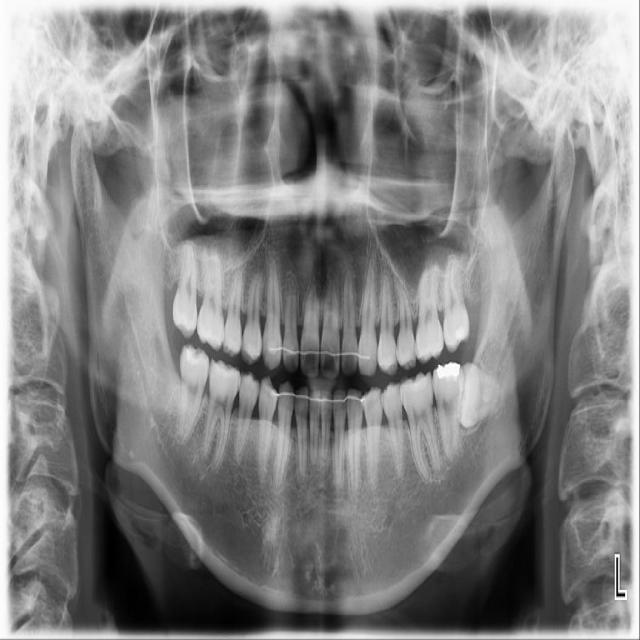Filling: (432, 362, 460, 382)
impacted tooth: (460, 363, 512, 430)
